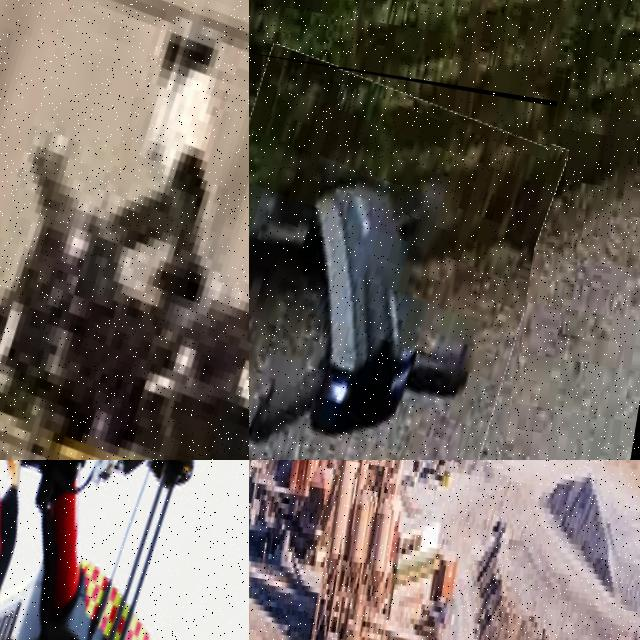0: (249, 46, 557, 460)
drone: (0, 0, 249, 460), (0, 460, 249, 640)
